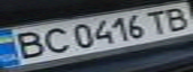0: (69, 20, 93, 50)
1: (109, 15, 133, 43)
4: (90, 17, 115, 46)
6: (124, 11, 151, 39)
B: (3, 28, 51, 61), (160, 3, 193, 32)
C: (36, 25, 72, 55)
T: (142, 7, 172, 35)
